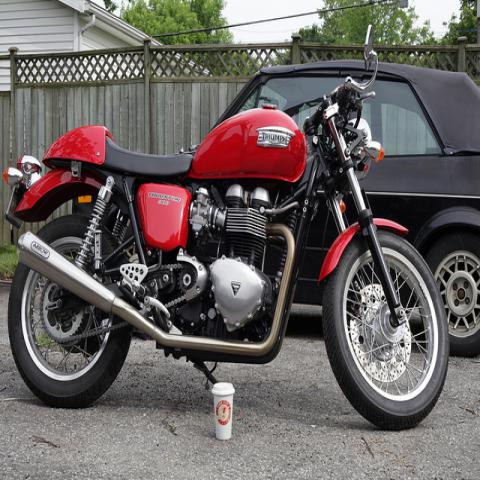car: (203, 60, 479, 355)
motorcycle: (4, 18, 448, 430)
